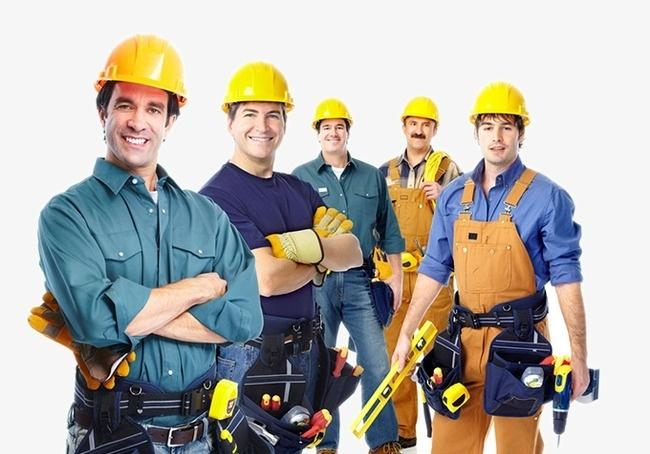helmet: (94, 33, 198, 101), (222, 60, 302, 114), (470, 78, 534, 124), (401, 94, 445, 124), (312, 96, 355, 124)
no_wear: (439, 178, 563, 311), (222, 172, 312, 321), (384, 155, 451, 242)
